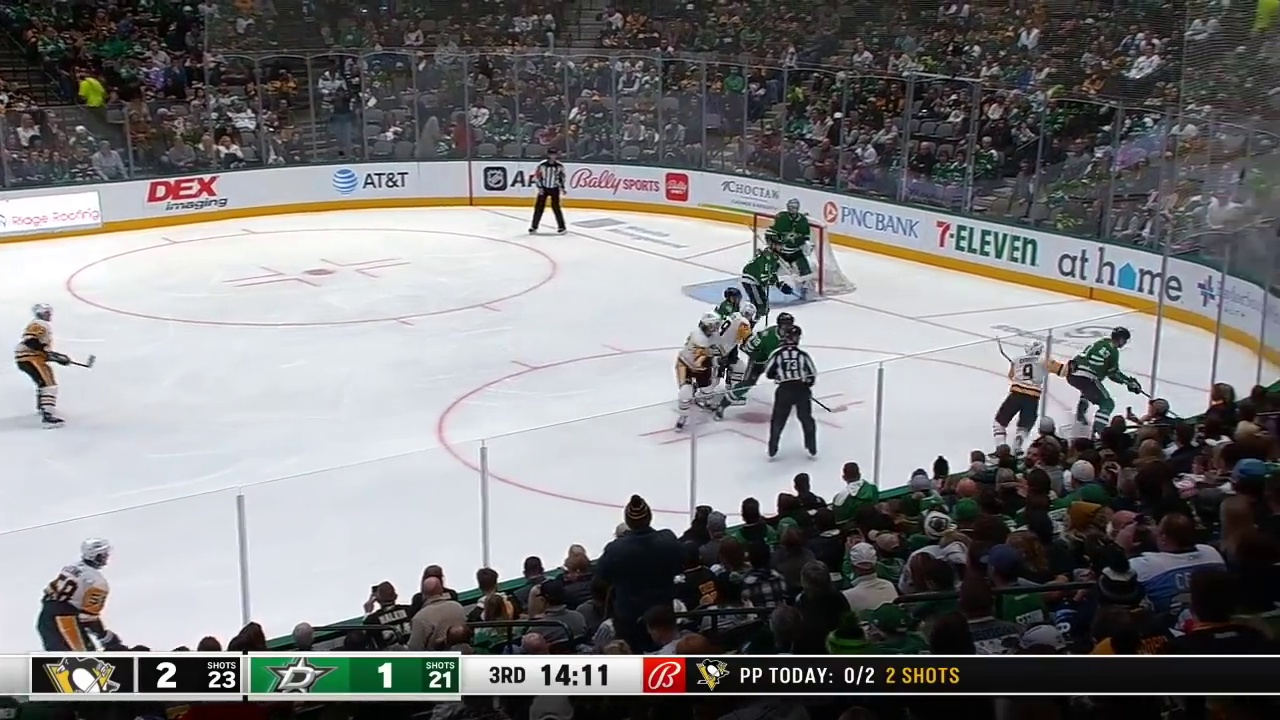goalie: (765, 198, 815, 299)
hockeyplayer: (987, 339, 1078, 461), (37, 538, 123, 651), (714, 312, 796, 421), (1067, 326, 1142, 438), (14, 302, 70, 429), (693, 302, 757, 406), (675, 311, 725, 432), (741, 234, 792, 330), (713, 287, 742, 389)
referee: (764, 324, 817, 462), (528, 148, 567, 235)
